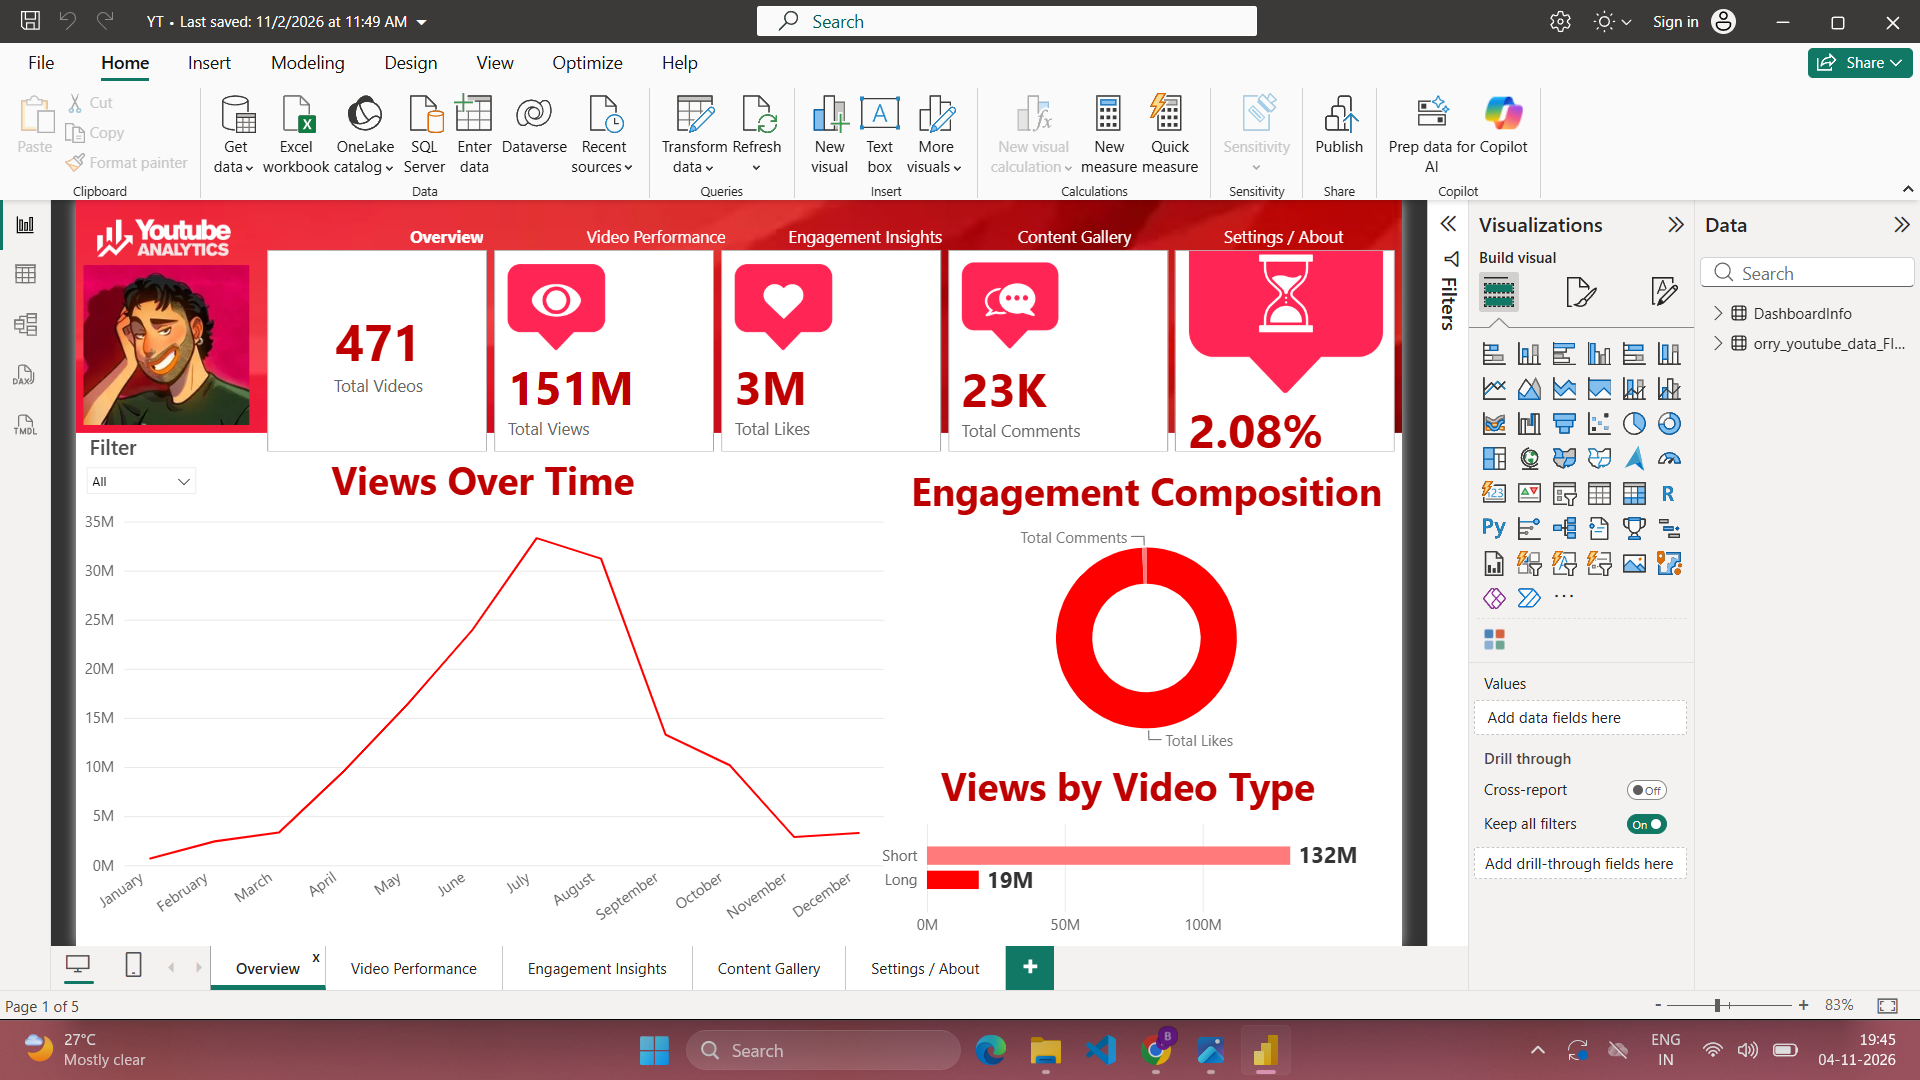

The dashboard page shown, as its layout file describes it:
{"tool":"powerbi","page":{"name":"Overview","canvas":[1280,720],"ordinal":0},"visuals":[{"type":"image","box":[0,0,1280.4,225],"z":0},{"type":"cardVisual","fields":{"Data":["orry_youtube_data_FINAL.Total Videos","orry_youtube_data_FINAL.Total Views","orry_youtube_data_FINAL.Total Likes","orry_youtube_data_FINAL.Total Comments","orry_youtube_data_FINAL.Avg Engagement Rate"]},"box":[179.8,45.8,1100.3,199.1],"z":1000},{"type":"lineChart","title":"Views Over Time","fields":{"Category":["orry_youtube_data_FINAL.publish_date.Variation.Date Hierarchy.Month"],"Y":["Sum(orry_youtube_data_FINAL.sum_of_views)"]},"box":[0,244.9,785.4,475.3],"z":2000},{"type":"donutChart","title":"Engagement Composition","fields":{"Y":["orry_youtube_data_FINAL.Total Likes","orry_youtube_data_FINAL.Total Comments"]},"box":[786.6,255.8,493.4,284.7],"z":3000},{"type":"barChart","title":"Views by Video Type","fields":{"Category":["orry_youtube_data_FINAL.video_type"],"Y":["Sum(orry_youtube_data_FINAL.sum_of_views)"]},"box":[768.5,540.5,493.4,179.8],"z":4000},{"type":"pageNavigator","box":[261.4,11.4,1001.4,47.1],"z":6000},{"type":"image","box":[16.2,0,151.2,72.5],"z":7000},{"type":"image","box":[7.1,62.9,160,154.3],"z":8000},{"type":"slicer","fields":{"Values":["orry_youtube_data_FINAL.video_type","orry_youtube_data_FINAL.publish_date.Variation.Date Hierarchy.Month","orry_youtube_data_FINAL.Weekday Name"]},"box":[0,225,126.2,61.9],"z":8001}]}

Visuals, with their boxes on the page's 1280x720 design canvas (x1, y1, x2, y2). These are canvas units, not pixel positions in the 1920x1080 screenshot, which may show the page scaled, cropped or inside an application window:
image: bbox(0, 0, 1280, 225)
cardVisual - orry_youtube_data_FINAL.Total Videos x orry_youtube_data_FINAL.Total Views: bbox(180, 46, 1280, 245)
"Views Over Time" lineChart: bbox(0, 245, 785, 720)
"Engagement Composition" donutChart: bbox(787, 256, 1280, 540)
"Views by Video Type" barChart: bbox(768, 540, 1262, 720)
pageNavigator: bbox(261, 11, 1263, 58)
image: bbox(16, 0, 167, 72)
image: bbox(7, 63, 167, 217)
slicer - orry_youtube_data_FINAL.video_type x orry_youtube_data_FINAL.publish_date.Variation.Date Hierarchy.Month: bbox(0, 225, 126, 287)
